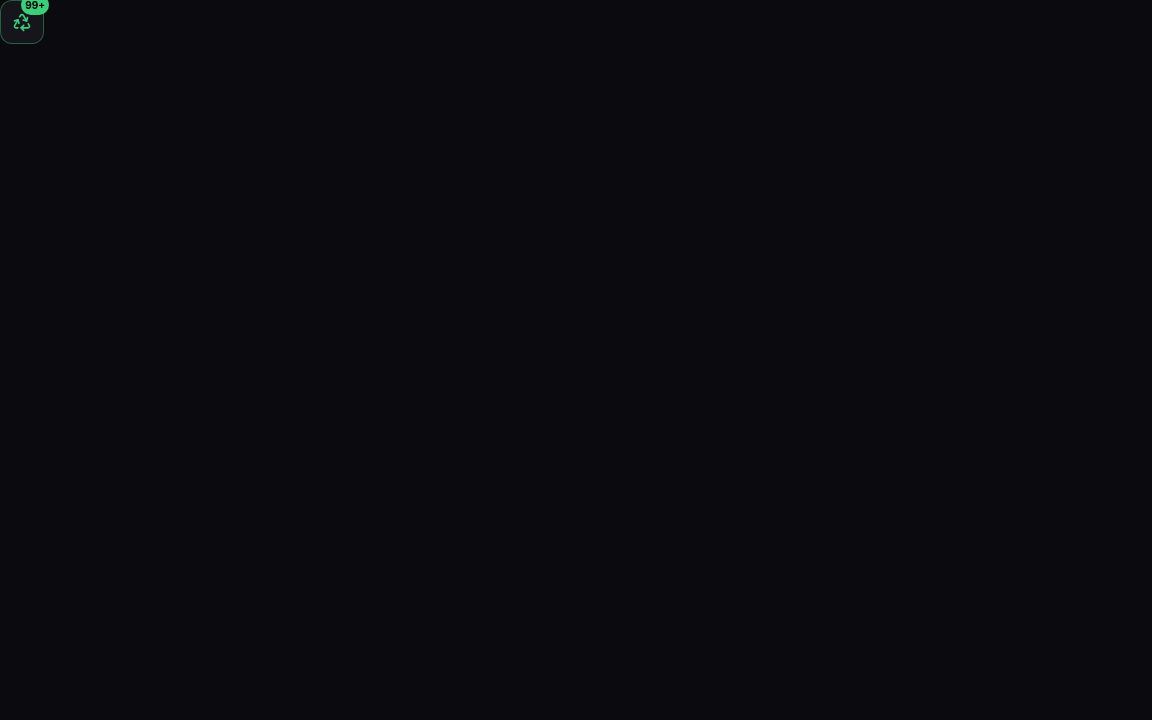
RecycleModal › shows a chip per rarity with copies and gain
Click the button named "Recycle duplicates": (22, 22) [0,0,44,44]
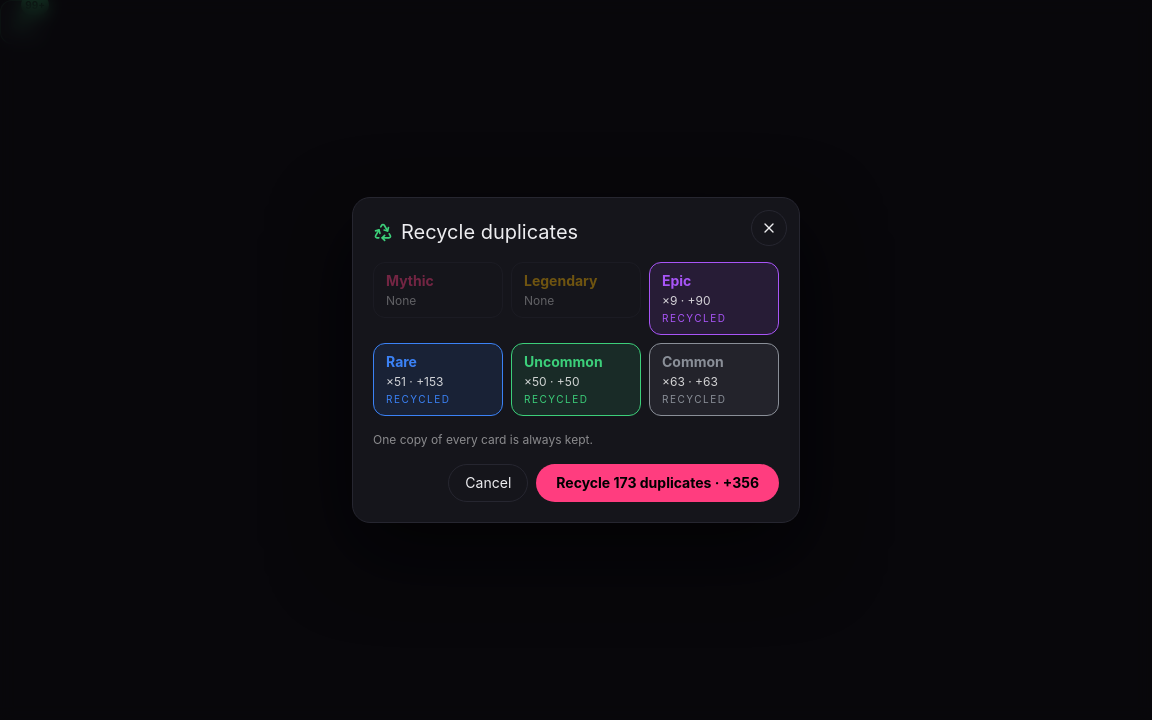
Now the switch labelled "Epic ×9 · +90 Recycled" is shown, box [649,262,779,335]
Now the switch labelled "Legendary None" is disabled, box [511,262,641,318]
Now the button "Recycle 173 duplicates · +356" is enabled, box [536,464,779,502]
